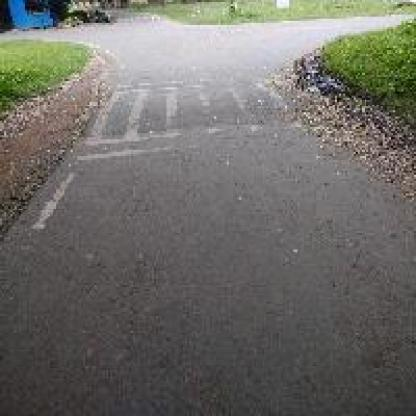Speed Bump: (73, 71, 287, 162)
